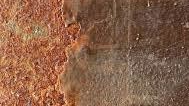Corrosion: (1, 1, 82, 106)
